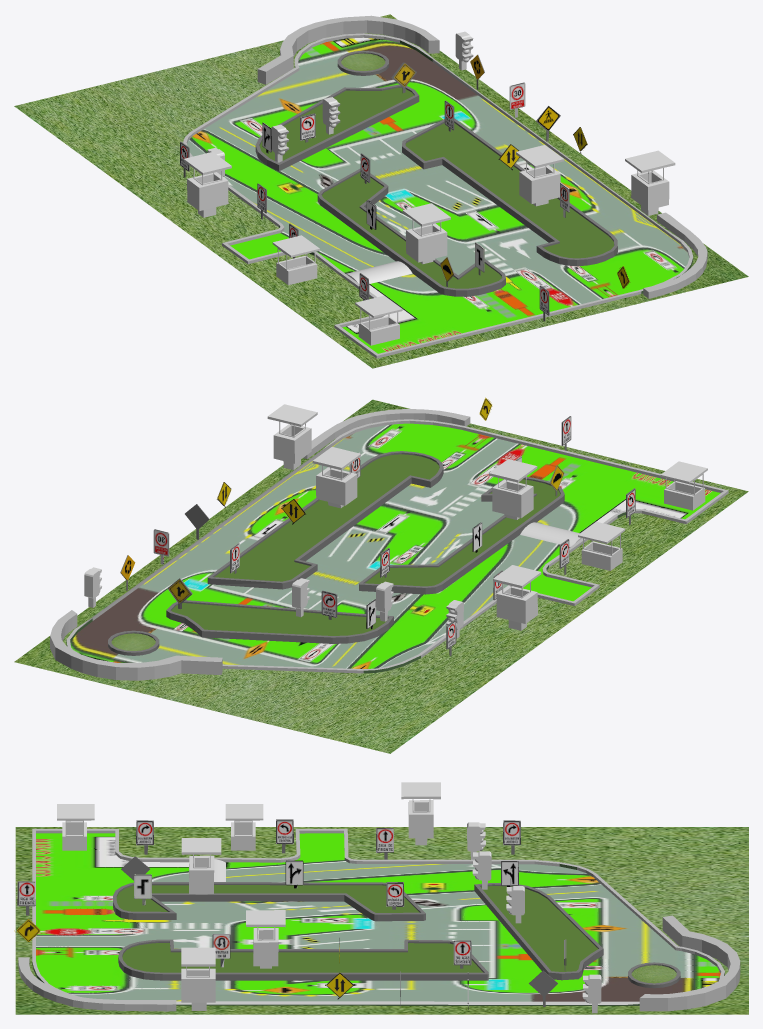
File: Turing Map-V8.fbx
The picture shows the model from 3 angles, top to bottom: view 1: azimuth 30°, elevation 25°; view 2: azimuth 150°, elevation 25°; view 3: azimuth 270°, elevation 25°; orthographic projection. The views are drawn at different scales.
Visible parts, largest first — view 1: Pista, CasetaObservadora2 (×4), CasetaObservadora1 (×2), Ovalo, Cylinder001; view 2: Pista, CasetaObservadora2 (×4), CasetaObservadora1 (×2), Ovalo, Cylinder001; view 3: Pista, CasetaObservadora2 (×4), CasetaObservadora1 (×2), Ovalo, Semaforo, Semaforo002, Semaforo001, Semaforo003, Cartel011, Cartel005, Cartel020, Cartel012 (+8 smaller).
Part boxes in pixels (x1,y1,x2,y2): Pista: (14,14,748,368); CasetaObservadora2 (×4): (183,145,675,264); CasetaObservadora1 (×2): (272,235,402,345); Ovalo: (337,50,388,75); Cylinder001: (346,261,412,283); Pista: (14,399,748,753); CasetaObservadora2 (×4): (267,404,541,630); CasetaObservadora1 (×2): (578,461,707,570); Ovalo: (108,630,159,655); Cylinder001: (520,522,582,546); Pista: (15,827,748,1014); CasetaObservadora2 (×4): (181,782,440,1010); CasetaObservadora1 (×2): (57,804,263,850); Ovalo: (628,962,680,988); Semaforo: (582,974,601,1013); Semaforo002: (472,851,491,889); Semaforo001: (506,886,524,923); Semaforo003: (467,822,485,859); Cartel011: (17,881,35,915); Cartel005: (503,820,520,854); Cartel020: (136,820,153,854); Cartel012: (453,940,471,968).
Size of the model in its own units: 122 by 19.17 by 198.
